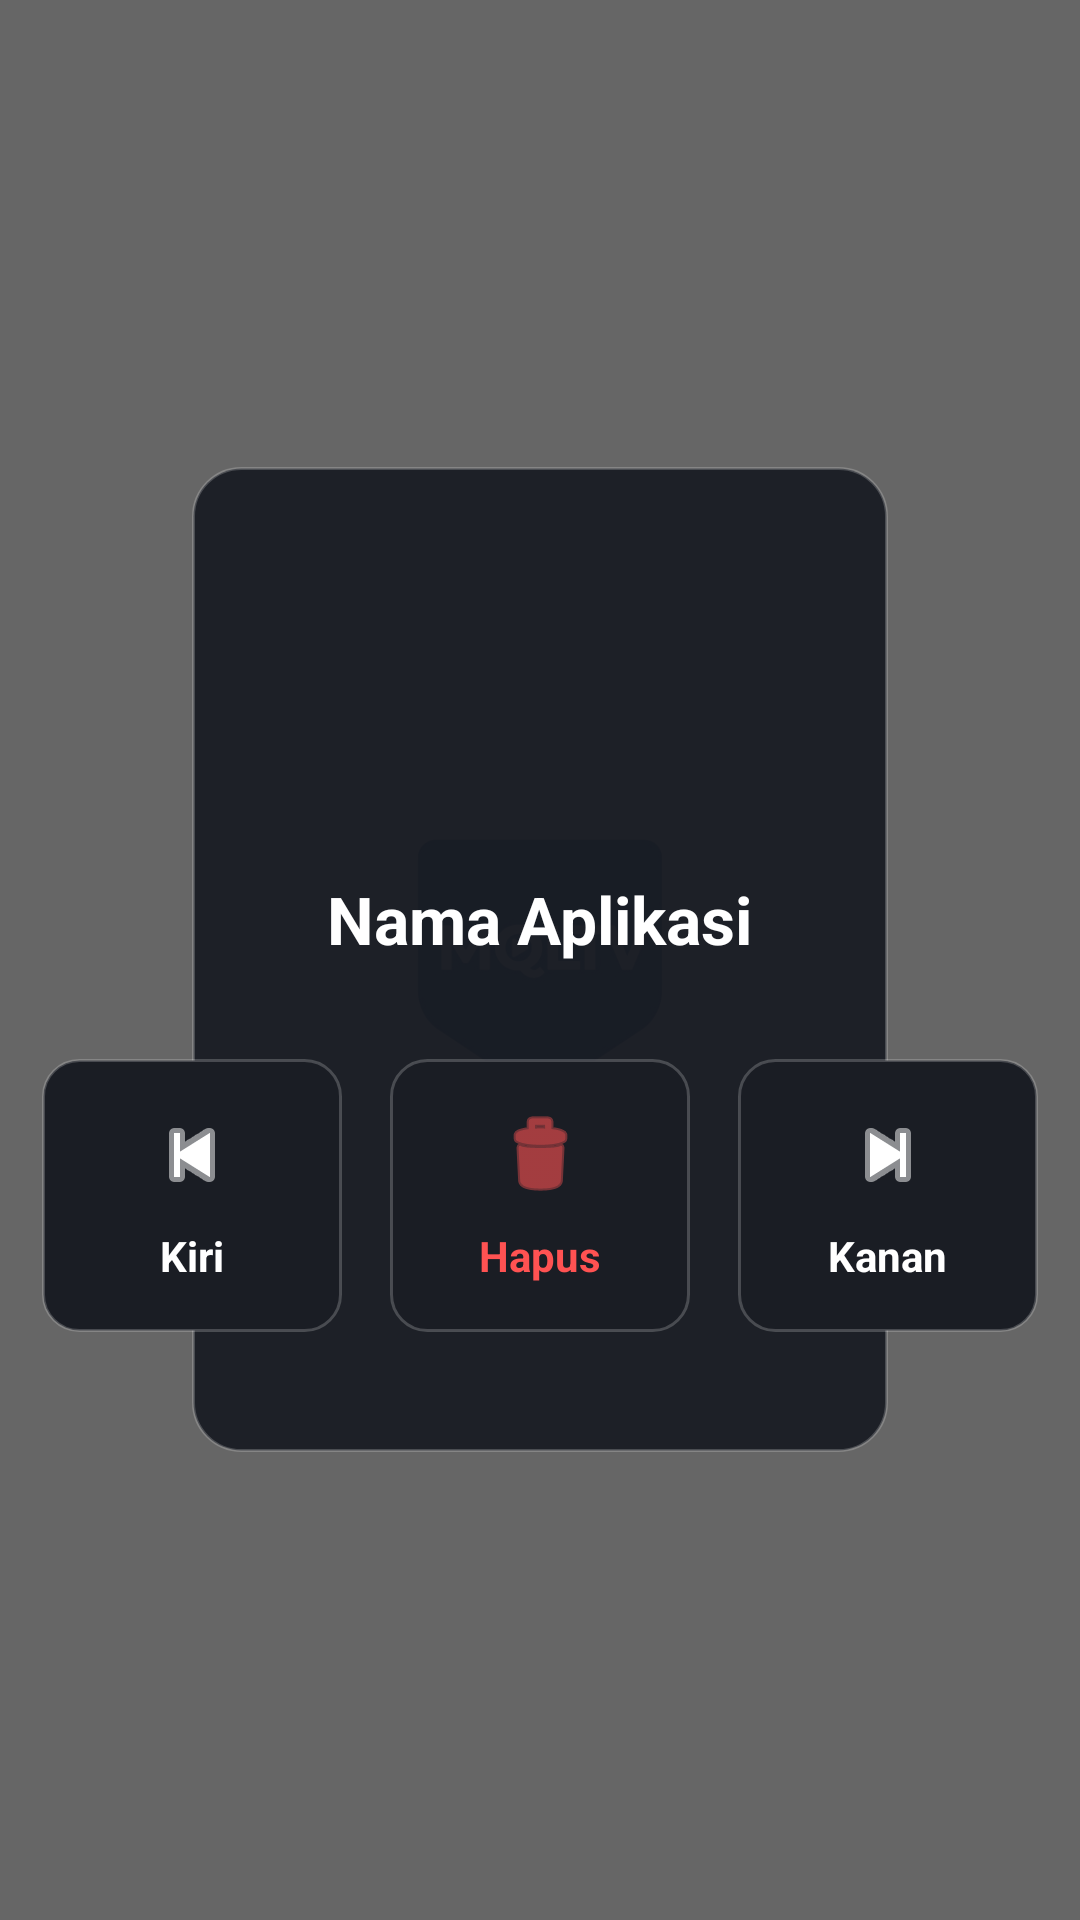

Screen size 1080 x 1920. Icon name, then its center in pixels as (x=x, y=y):
delete: (x=540, y=1153)
